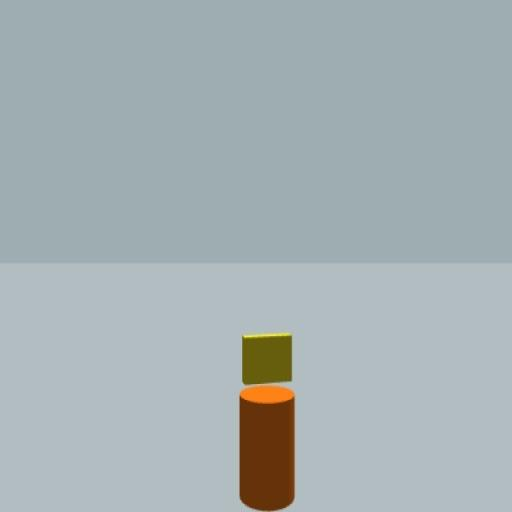buoy: (238, 331, 298, 510)
